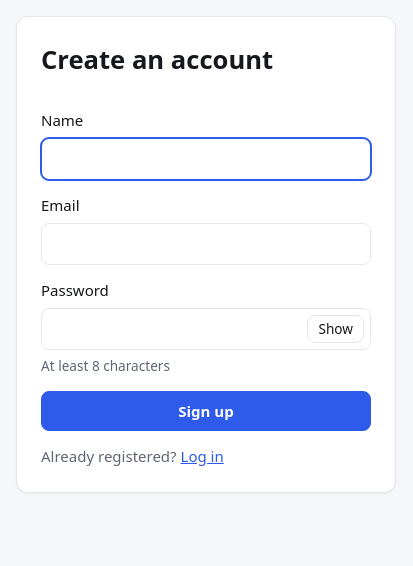
Test: Register page › shows errors without fields as an alert
Type "Ada" into the field labelled "Name".
click(206, 159); type("Ada")  # box x1=41 y1=138 x2=371 y2=180
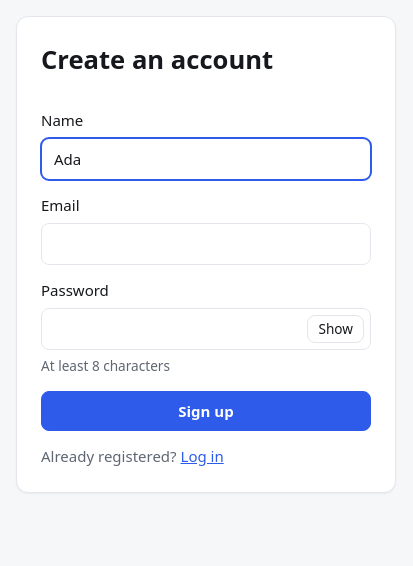
Type "ada@example.com" into the field labelled "Email".
click(206, 244); type("ada@example.com")  # box x1=41 y1=223 x2=371 y2=265
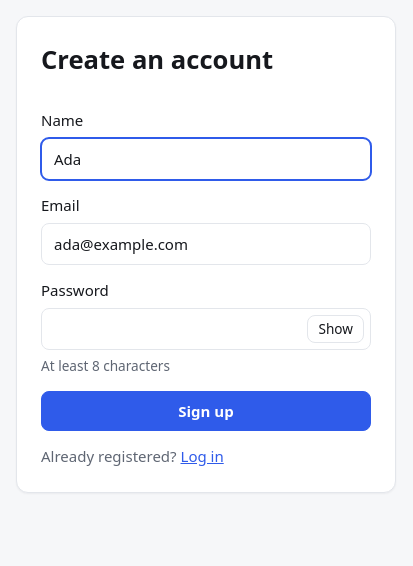
Type "secret123" into the password field labelled "Password".
click(206, 329); type("secret123")  # box x1=41 y1=308 x2=371 y2=350
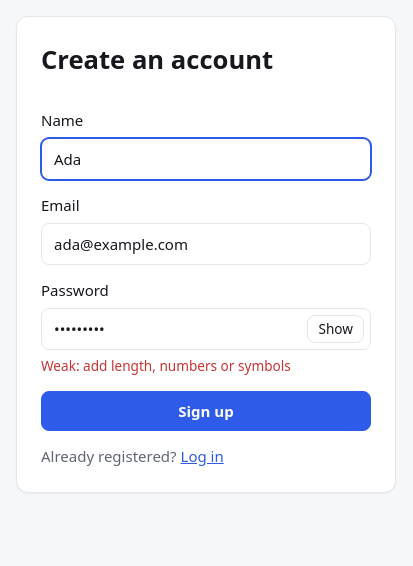
Click the button "Sign up".
click(206, 411)  # box x1=41 y1=391 x2=371 y2=431
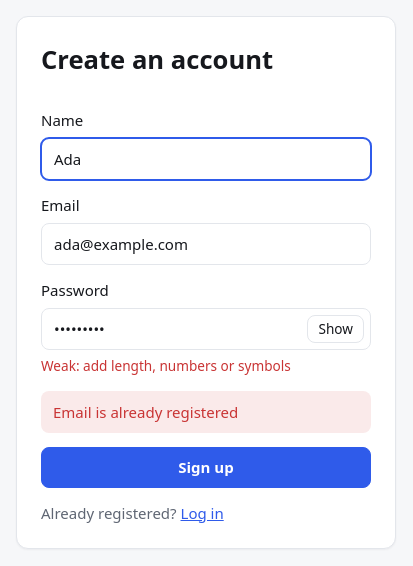
Expected: the button "Sign up" is enabled, x1=41 y1=447 x2=371 y2=488
Result: the message reads "Email is already registered" at x1=53 y1=402 x2=238 y2=422
